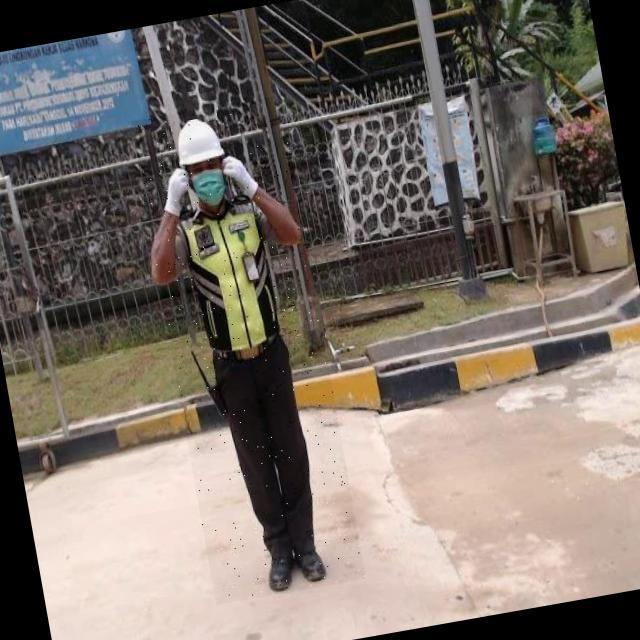Helmet: (168, 113, 228, 168)
Human: (131, 95, 366, 605)
Safety Boot: (288, 537, 329, 590), (263, 544, 299, 594)
Safety Vest: (174, 197, 290, 363)
